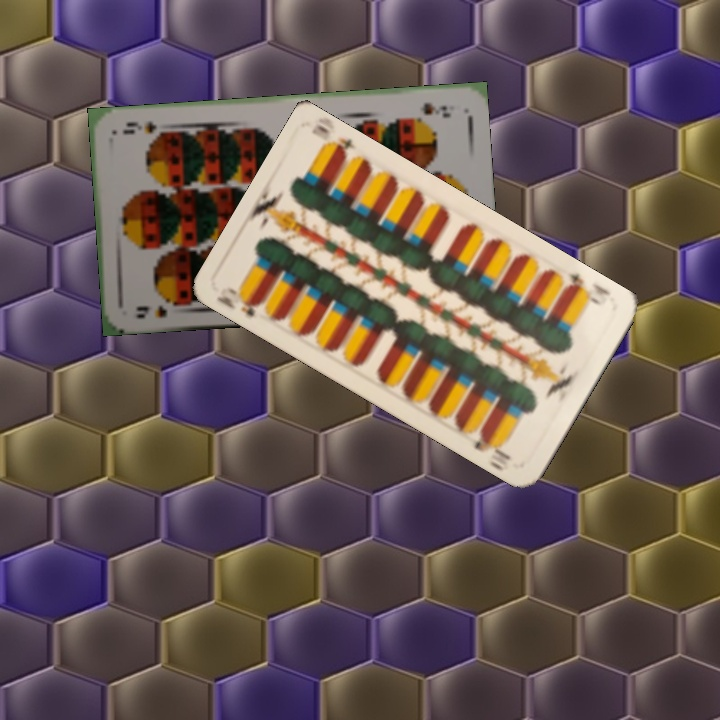E10: (212, 282, 266, 320), (559, 269, 604, 308)
S9: (131, 296, 185, 321), (418, 99, 453, 118)
